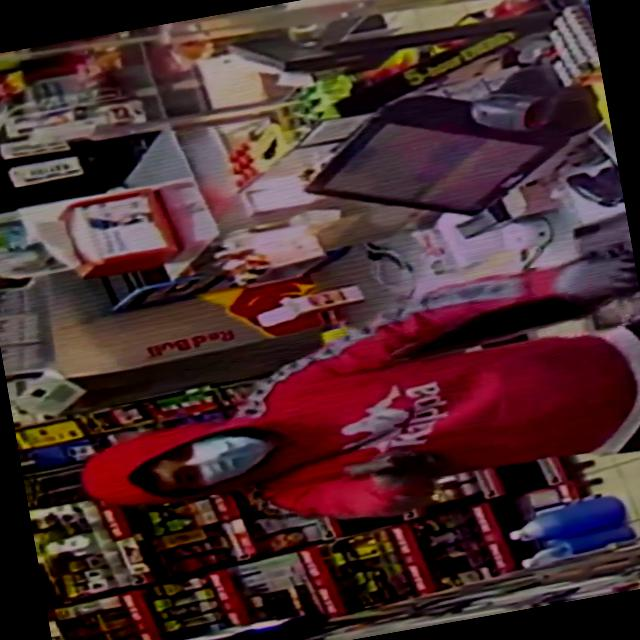handgun: (320, 433, 446, 490)
